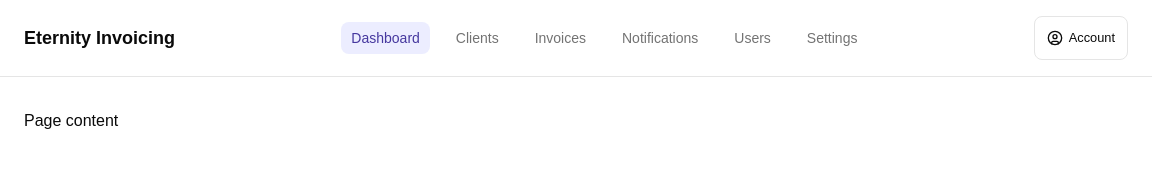
Scenario: AppShell's desktop Account menu › opening the Account dropdown reveals the email as non-interactive text, Switch business, and Log out
Step 1. Click the button "Account" → (1081,38), box [1034,16,1128,60]
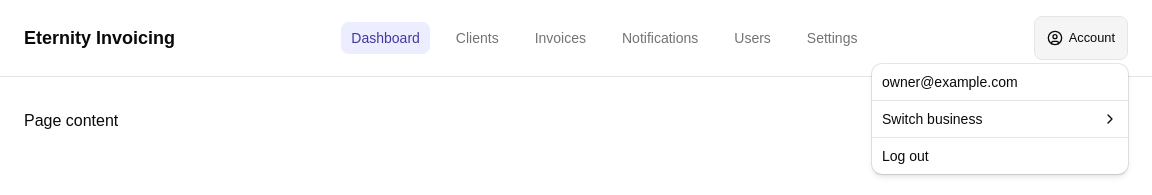
Expected: the text "owner@example.com" is shown, [882,74,1018,90]
Expected: the menu item "Switch business" is shown, [882,111,1118,127]
Expected: the menu item "Log out" is shown, [882,148,929,164]
